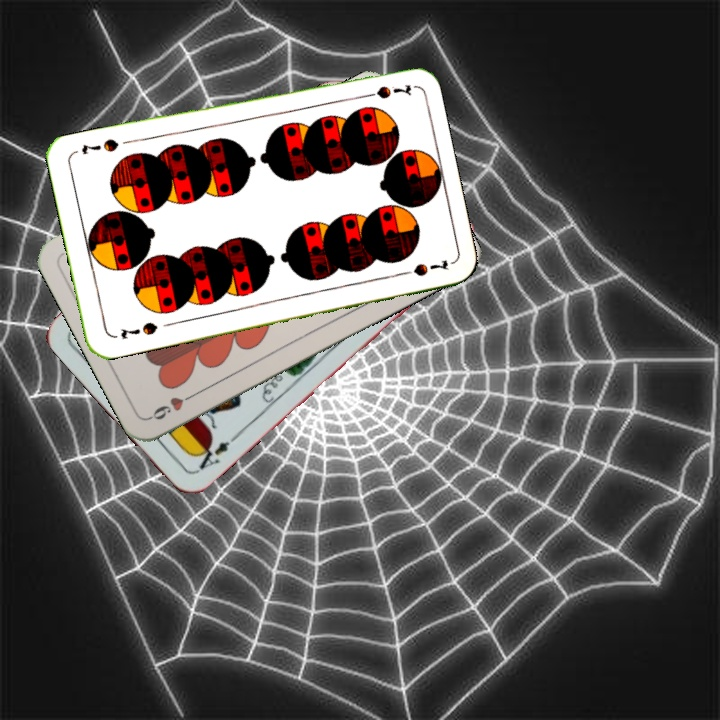EA: (190, 436, 232, 476)
H9: (145, 388, 200, 423)
S7: (355, 80, 414, 102), (116, 318, 160, 342)
